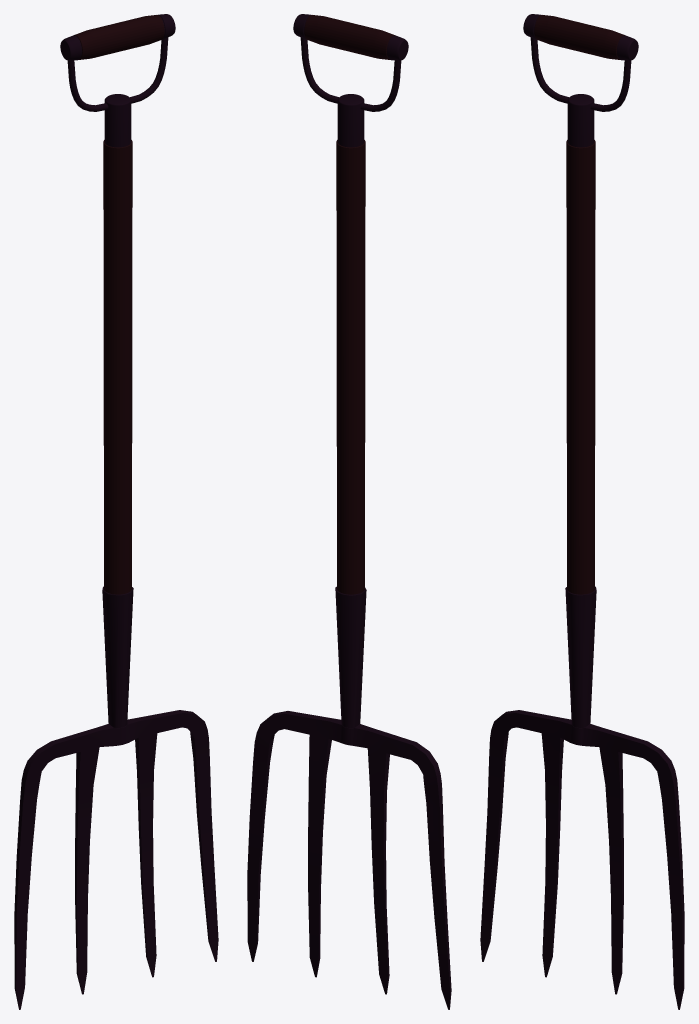
The model's file is pitchfork.fbx.
The picture shows the model from 3 angles, left to right: view 1: azimuth 30°, elevation 25°; view 2: azimuth 150°, elevation 25°; view 3: azimuth 330°, elevation 25°; orthographic projection.
Parts seen in each view (by area): view 1: pitchfork; view 2: pitchfork; view 3: pitchfork.
Part boxes in pixels (<box>): pitchfork: <box>14,14,218,1009</box>; pitchfork: <box>247,14,451,1009</box>; pitchfork: <box>480,14,684,1009</box>.
Bounding box in the file's own units: 1.52 × 6.9 × 0.2001.
